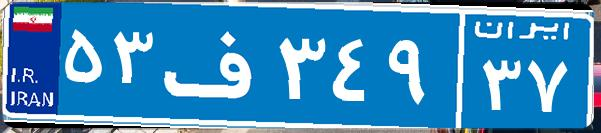3: (273, 28, 330, 110), (475, 38, 525, 113), (110, 28, 158, 105)
4: (330, 28, 385, 110)
5: (57, 26, 110, 107)
7: (525, 38, 570, 115)
9: (385, 28, 445, 110)
ف: (158, 15, 273, 115)
